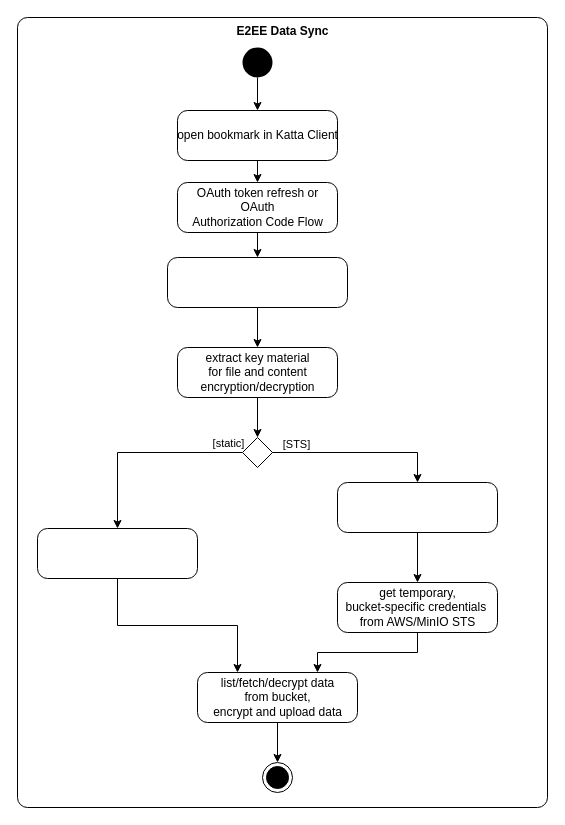
The diagram is 565 pixels wide and 825 high, and some of its shapes have lost their labels. The centre of each missing label's shape, as x and y in pixels:
"exchange access token for vault-specific access token" goes at [417,507].
"extract static S3 credentials from vault.uvf metadata" goes at [117,553].
"fetch and decrypt vault.uvf" goes at [257,282].
